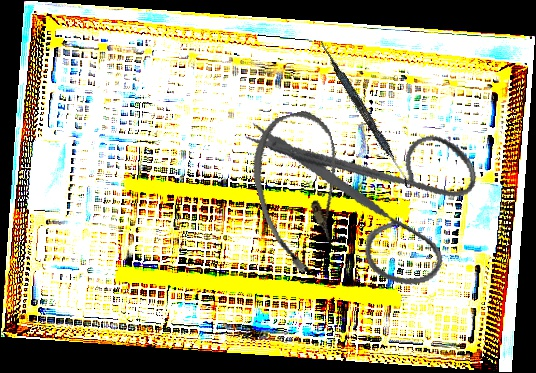Cannula: (240, 105, 364, 279)
Iris Scissors: (238, 73, 498, 317)
Spatula Surgical: (314, 39, 416, 189)
